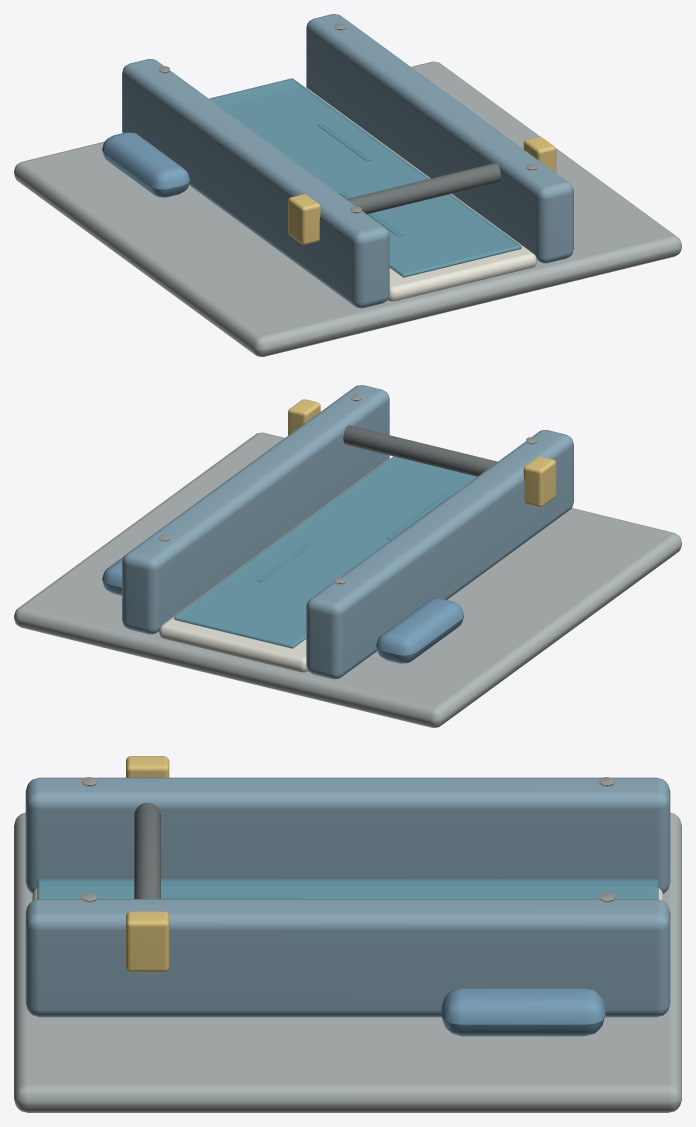
File: muted_aquaculture_trough.glb
The picture shows the model from 3 angles, top to bottom: view 1: azimuth 30°, elevation 25°; view 2: azimuth 150°, elevation 25°; view 3: azimuth 270°, elevation 25°; orthographic projection. The views are drawn at different scales.
Parts seen in each view (by area): view 1: aqua_tile_base, aqua_right_wall, aqua_left_wall, aqua_water, aqua_trough_floor, aqua_side_float_0, aqua_pipe_cross, aqua_utility_bracket_left, aqua_utility_bracket_right; view 2: aqua_tile_base, aqua_right_wall, aqua_left_wall, aqua_water, aqua_trough_floor, aqua_side_float_0, aqua_pipe_cross, aqua_utility_bracket_left, aqua_utility_bracket_right, aqua_side_float_1; view 3: aqua_right_wall, aqua_tile_base, aqua_left_wall, aqua_water, aqua_side_float_1, aqua_utility_bracket_right, aqua_pipe_cross, aqua_utility_bracket_left.
Part boxes in pixels (x1,y1,x2,y2): aqua_tile_base: (14, 61, 681, 356); aqua_right_wall: (306, 14, 573, 263); aqua_left_wall: (122, 59, 389, 308); aqua_water: (209, 78, 521, 277); aqua_trough_floor: (305, 87, 536, 301); aqua_side_float_0: (102, 132, 189, 197); aqua_pipe_cross: (346, 163, 500, 214); aqua_utility_bracket_left: (288, 194, 320, 244); aqua_utility_bracket_right: (523, 136, 556, 172); aqua_tile_base: (14, 432, 681, 727); aqua_right_wall: (122, 385, 389, 634); aqua_left_wall: (306, 430, 573, 679); aqua_water: (174, 456, 476, 648); aqua_trough_floor: (159, 458, 390, 672); aqua_side_float_0: (376, 598, 463, 663); aqua_pipe_cross: (343, 425, 497, 476); aqua_utility_bracket_left: (523, 456, 556, 507); aqua_utility_bracket_right: (288, 399, 320, 435); aqua_side_float_1: (102, 556, 123, 595); aqua_right_wall: (25, 899, 670, 1017); aqua_tile_base: (14, 812, 681, 1112); aqua_left_wall: (25, 777, 670, 893); aqua_water: (37, 879, 658, 899); aqua_side_float_1: (441, 987, 605, 1036); aqua_utility_bracket_right: (126, 911, 169, 972); aqua_pipe_cross: (134, 802, 160, 898); aqua_utility_bracket_left: (126, 756, 169, 777).
Size of the model in its own units: 4 by 0.9125 by 4.
